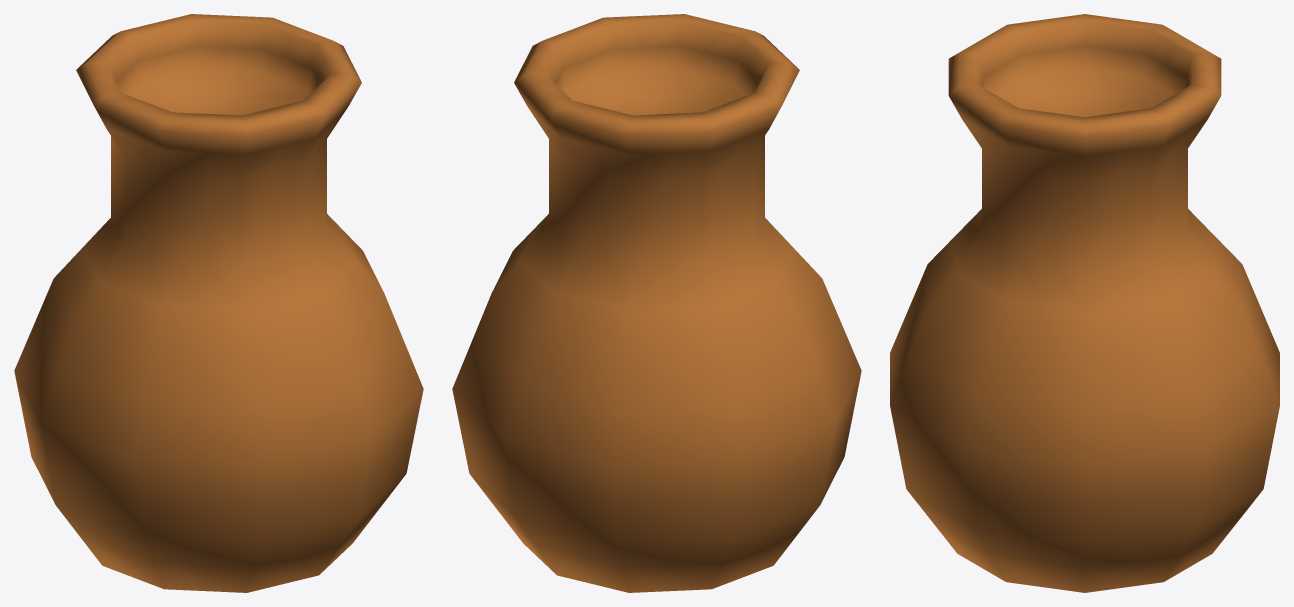
The model's file is museum_assets_8.fbx.
The picture shows the model from 3 angles, left to right: view 1: azimuth 30°, elevation 25°; view 2: azimuth 150°, elevation 25°; view 3: azimuth 270°, elevation 25°; orthographic projection.
Visible parts, largest first — view 1: amfora_6; view 2: amfora_6; view 3: amfora_6.
Boxes of the visible parts, <box> form: amfora_6: <box>14,14,423,592</box>; amfora_6: <box>452,14,861,592</box>; amfora_6: <box>890,14,1279,592</box>.
Bounding box in the file's own units: 1.09 × 1.37 × 1.04.
